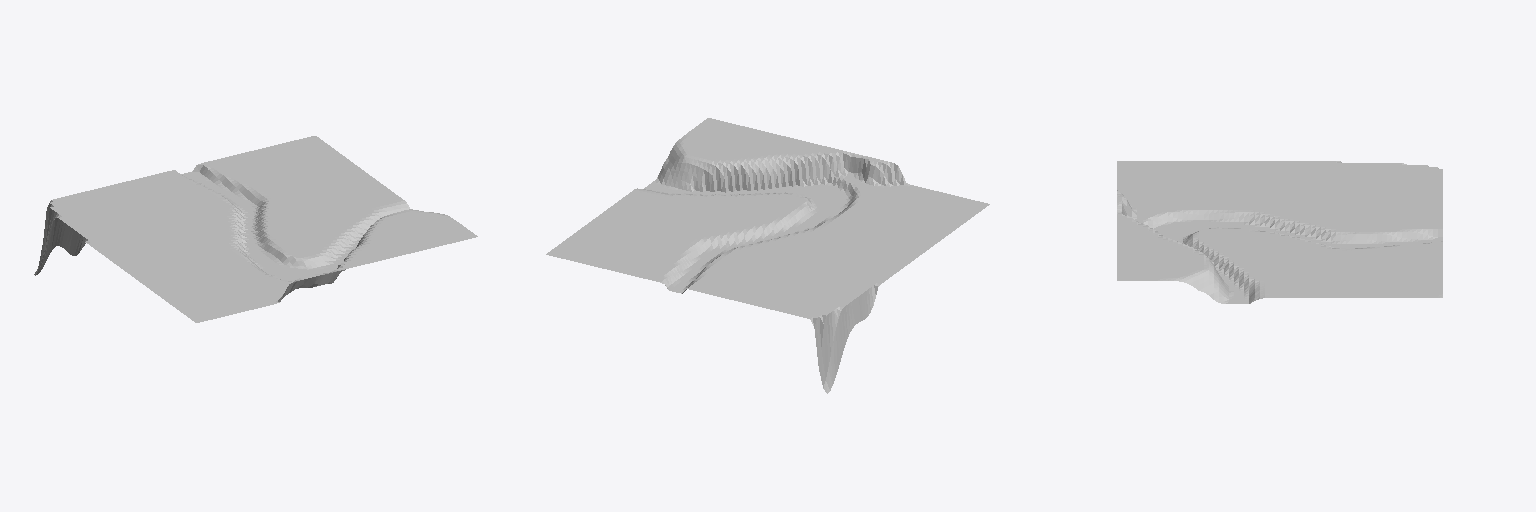
Rendered from SM_Terrain_Tuto1Chunk2.0.obj.
The picture shows the model from 3 angles: view 1: azimuth 30°, elevation 25°; view 2: azimuth 150°, elevation 25°; view 3: azimuth 270°, elevation 25°; orthographic projection.
Bounding box in the file's own units: 100 × 29.99 × 100.